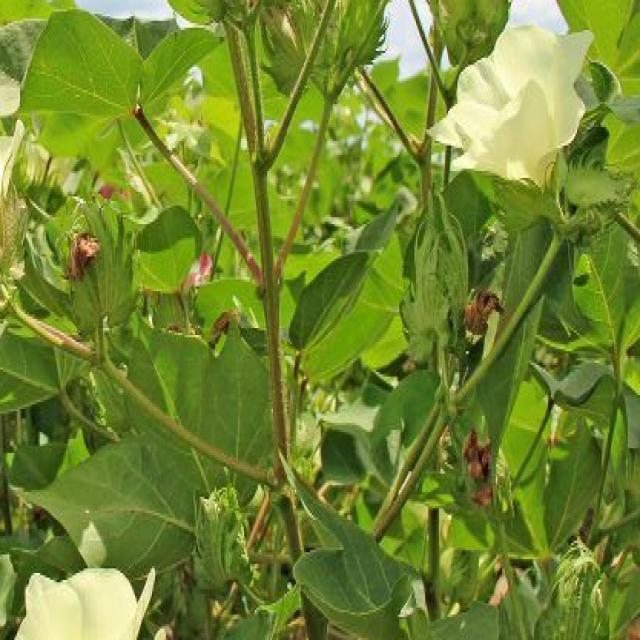Healthy Leaf: (7, 15, 615, 594)
